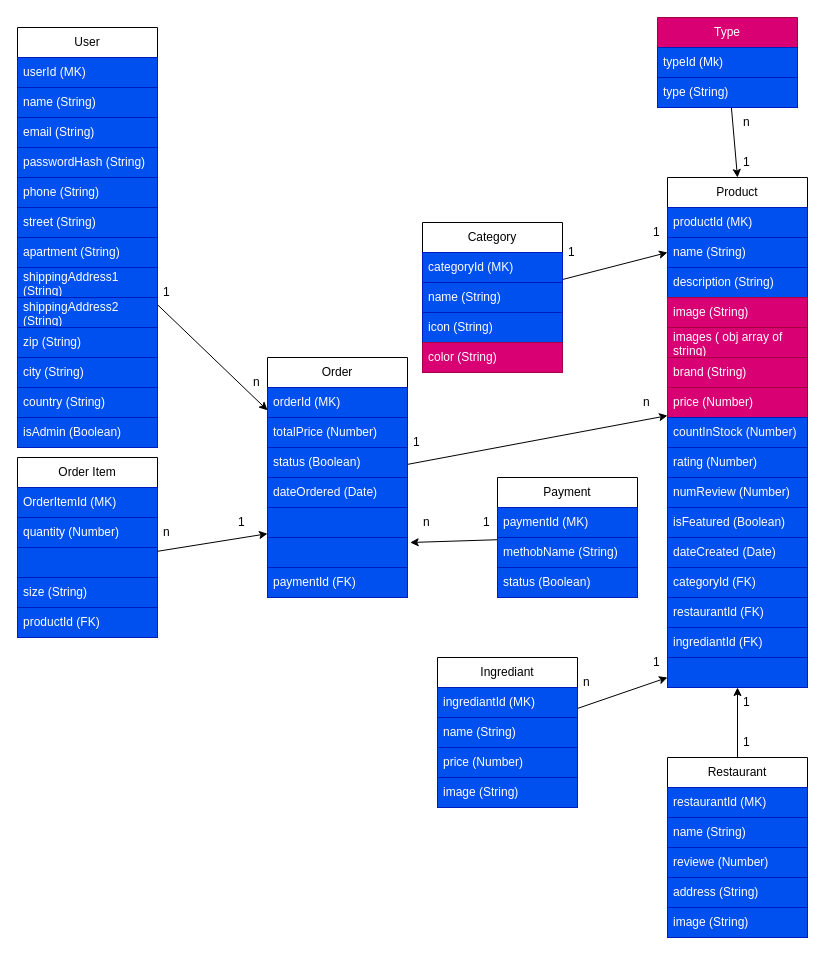
Some shapes in this 825 by 955 pixel diagram are drawn without their labels. The box of each missing label's shape, as (x1, y1, x2, y2) in pixels:
excluded (Array): (16, 546, 158, 578)
orderItemId (FK): (266, 536, 408, 568)
typeId (FK): (666, 656, 808, 688)
userId (FK): (266, 506, 408, 538)
